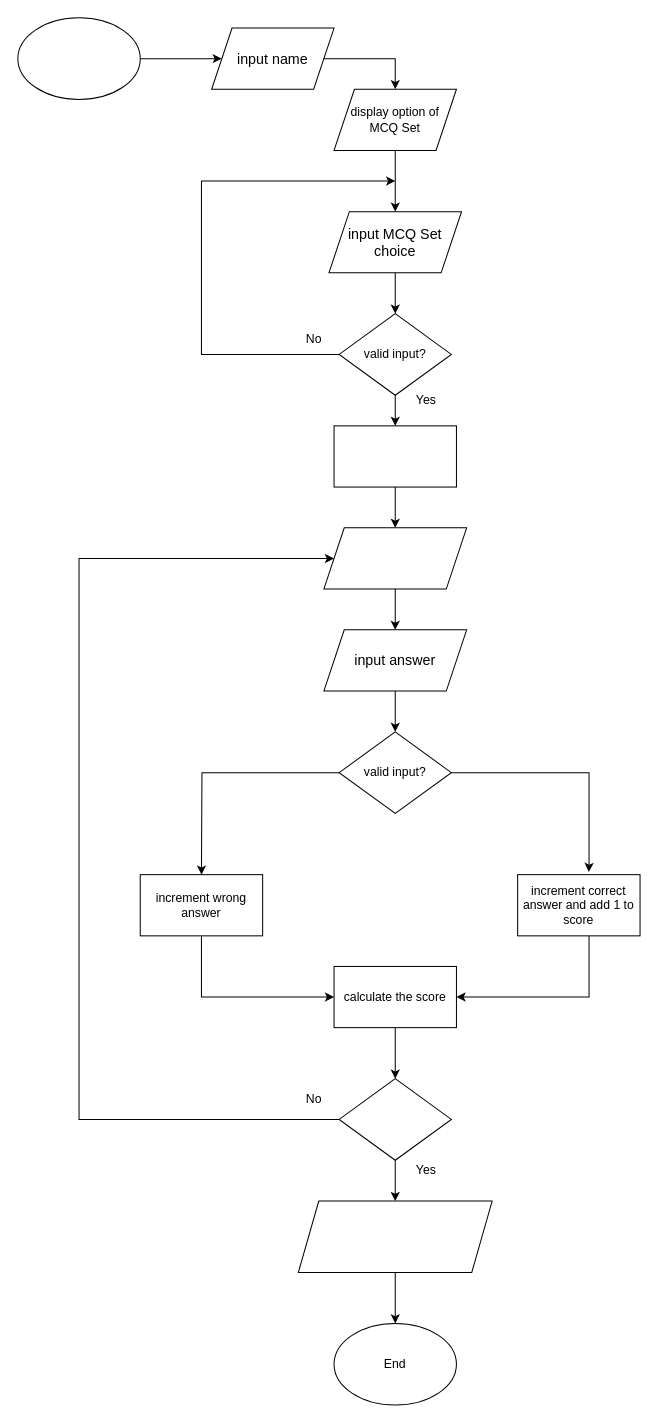
Some shapes in this 658 by 1423 pixel diagram are drawn without their labels. Here are the shapes that lost their labels. From the top down, the box of each, then its label:
(17, 17, 140, 99): Start
(333, 425, 456, 487): read file
(323, 527, 467, 589): display questions
(338, 1078, 451, 1160): last question?
(297, 1200, 492, 1272): display name, score and total correct answer
